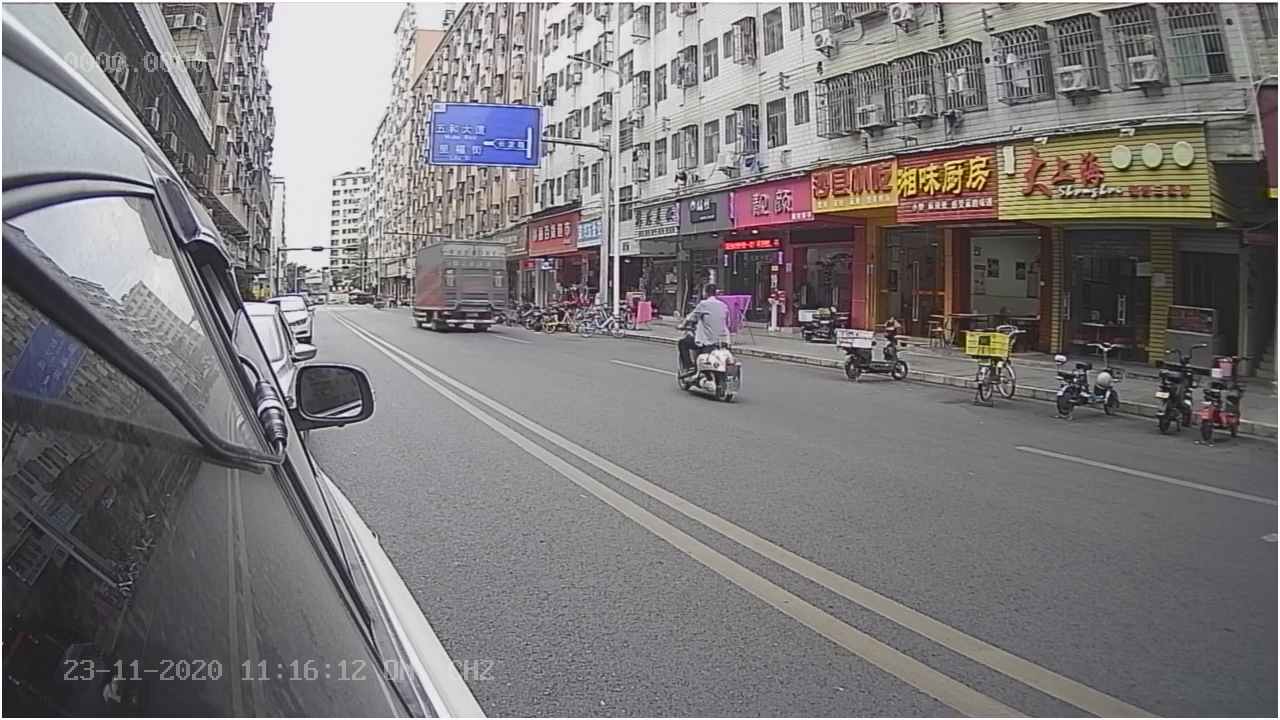person: (670, 278, 736, 346)
